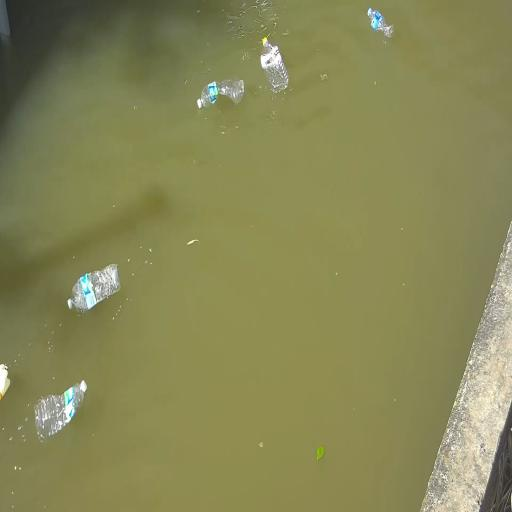plastic: (35, 381, 86, 440), (68, 264, 120, 311), (261, 38, 288, 92), (198, 79, 244, 108), (368, 8, 393, 37), (0, 365, 10, 399)
